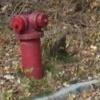a fire hydrant: (8, 7, 50, 82)
